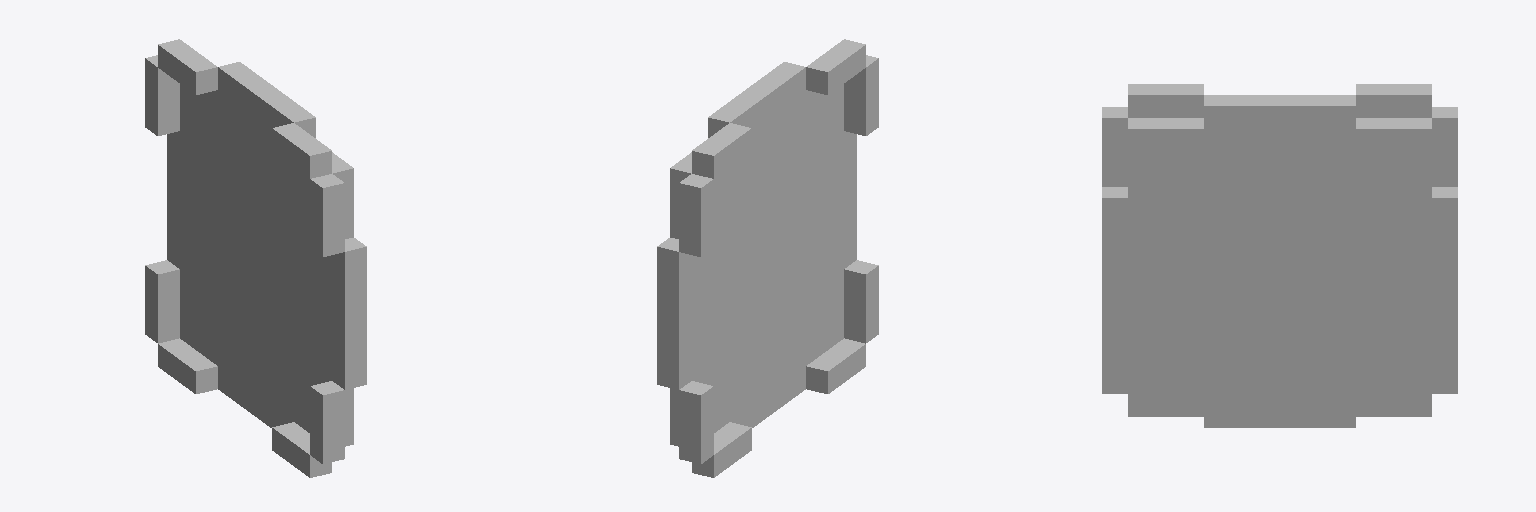
Rendered from side_xp.obj.
3 renders of one model, left to right at view 1: azimuth 30°, elevation 25°; view 2: azimuth 150°, elevation 25°; view 3: azimuth 270°, elevation 25°, orthographic.
Bounding box in the file's own units: 2 × 14 × 14.